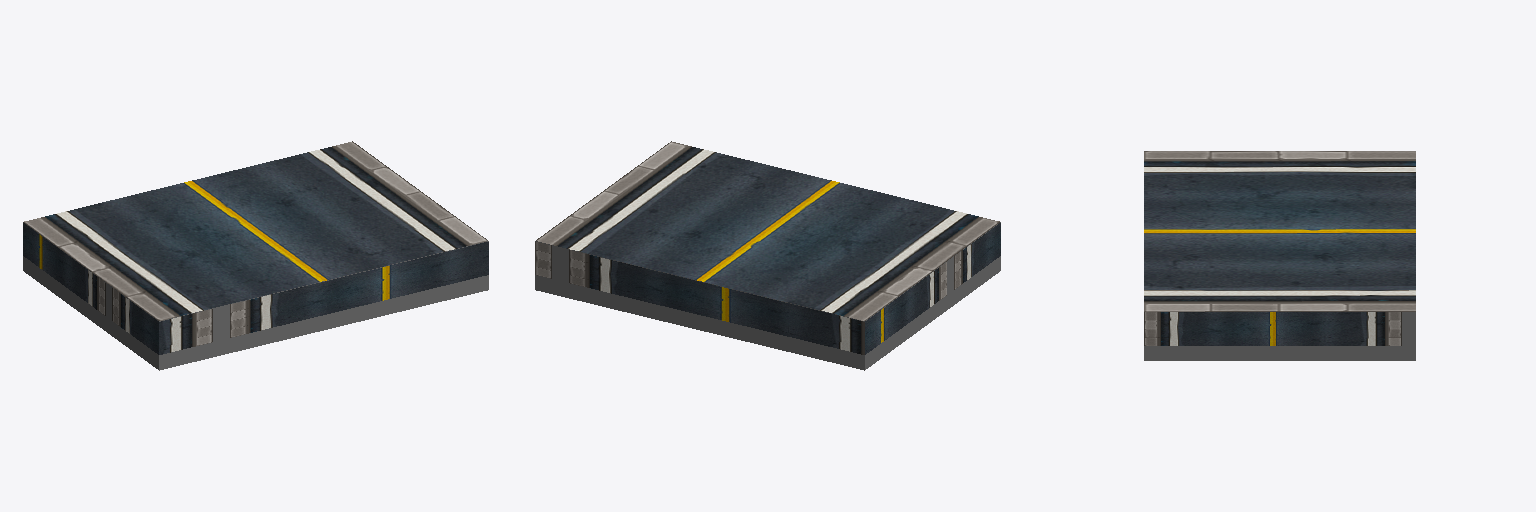
3 views of the same model, side by side, from view 1: azimuth 30°, elevation 25°; view 2: azimuth 150°, elevation 25°; view 3: azimuth 270°, elevation 25° (orthographic).
Visible parts, largest first — view 1: Box001; view 2: Box001; view 3: Box001.
Part boxes in pixels (x1,y1,x2,y2): Box001: (23, 141, 488, 370); Box001: (535, 141, 1000, 370); Box001: (1144, 151, 1415, 360).
Bounding box in the file's own units: 7 × 1 × 5.
Materials: 1 (1 with a texture image).